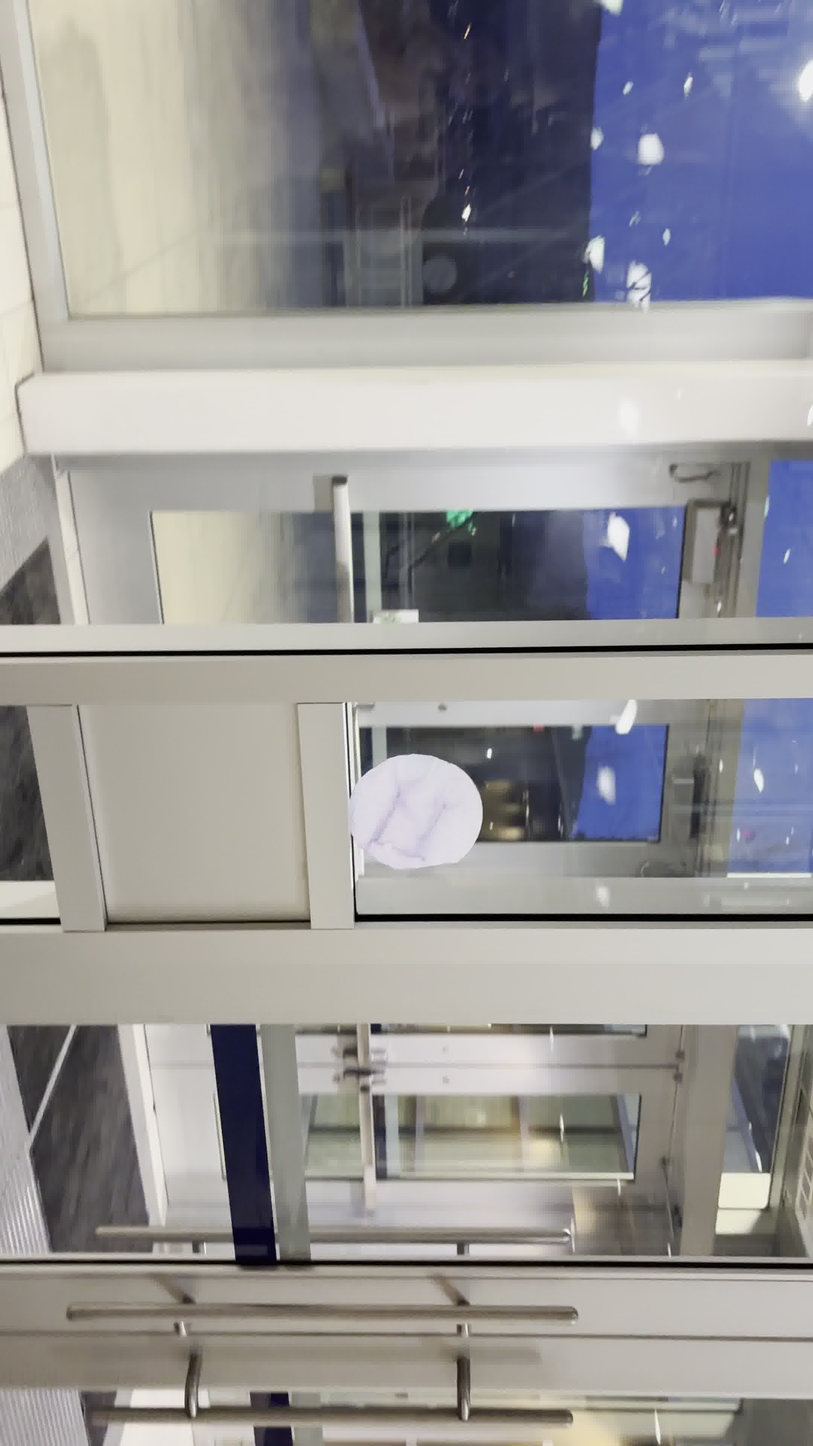Target: (345, 752, 484, 871)
